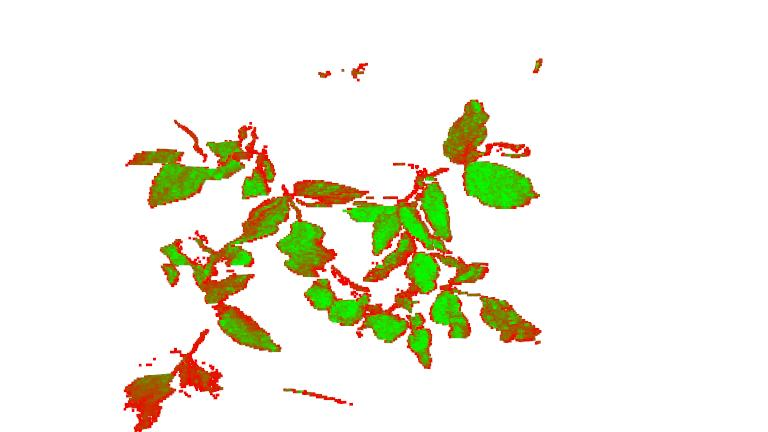mungbean: (124, 109, 355, 268), (356, 93, 547, 255), (307, 255, 542, 370), (123, 273, 285, 428)
